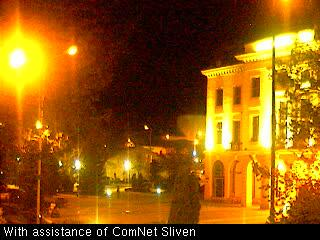person: (116, 185, 120, 198)
